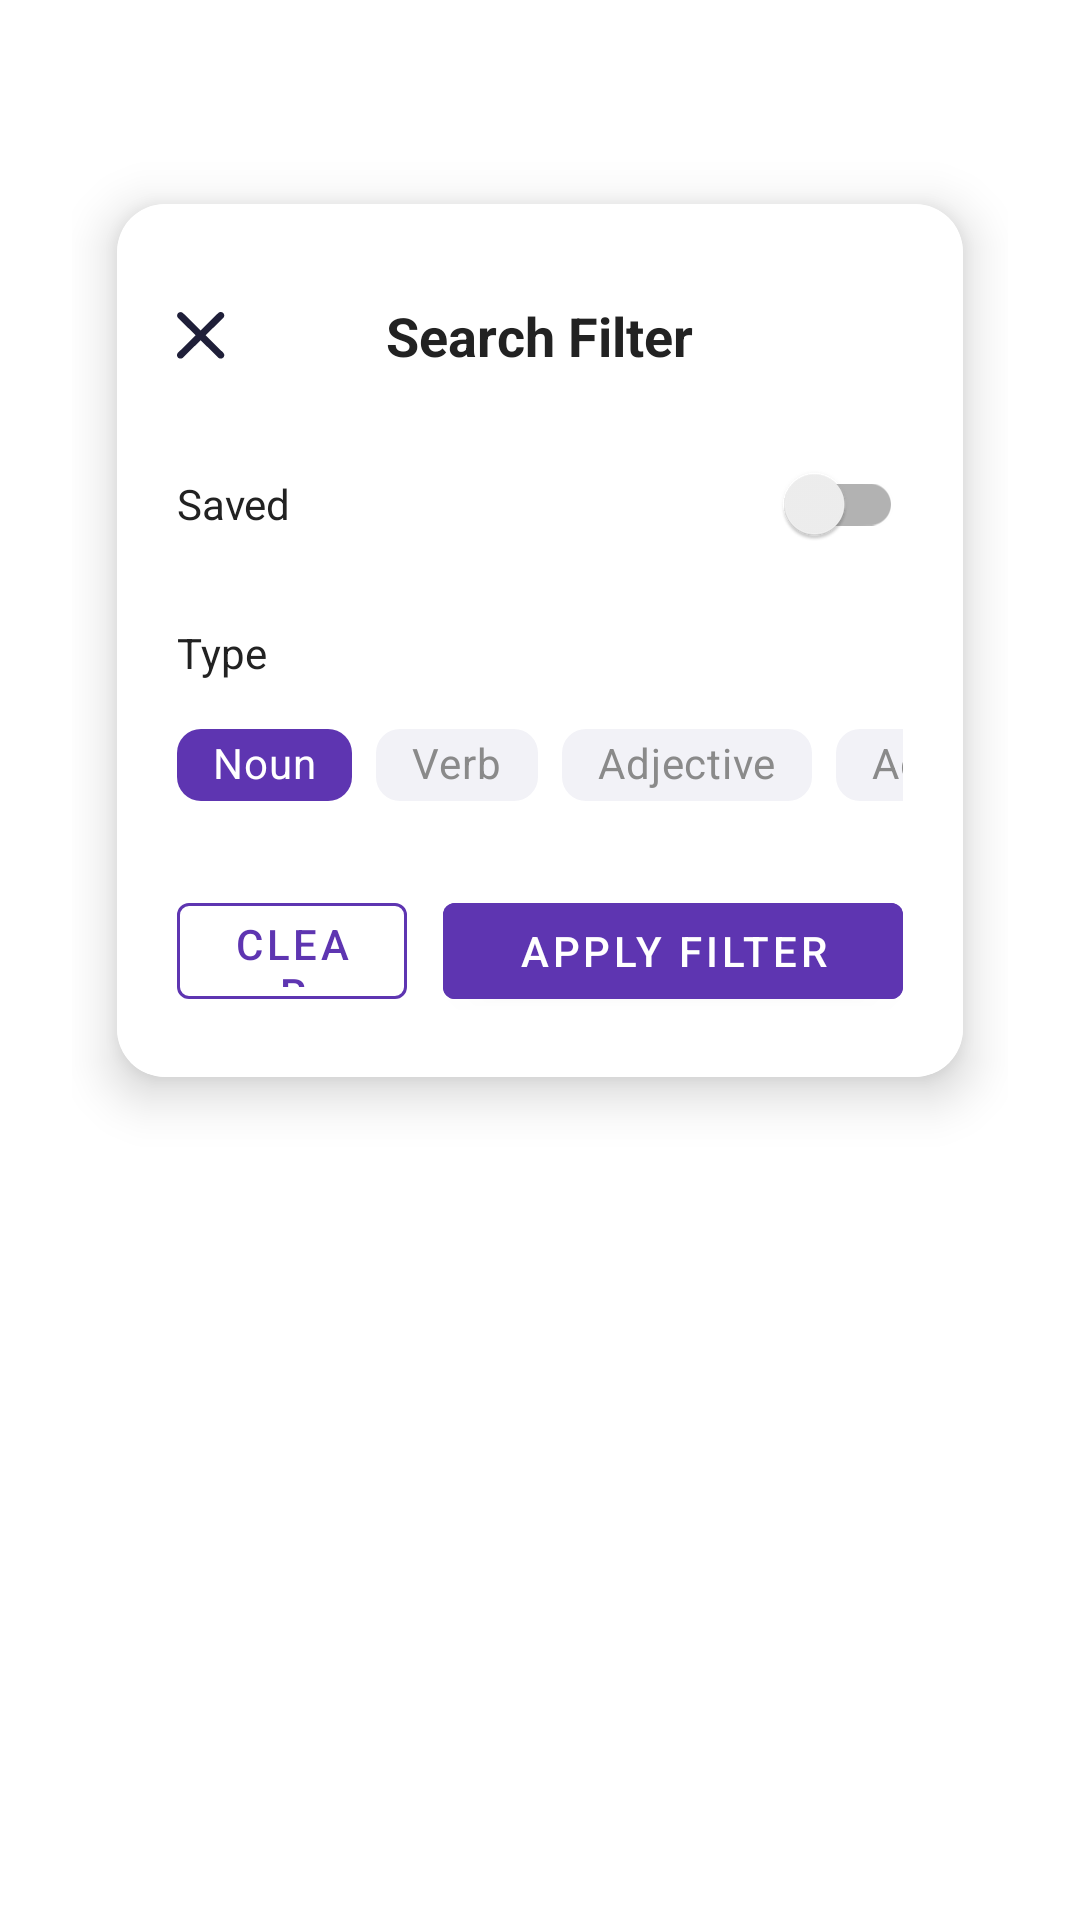

Icon bounding boxes for this 1080px x 1920px phone screenshot, format (x1, y1, x2, y2):
close: (177, 312, 225, 359)
